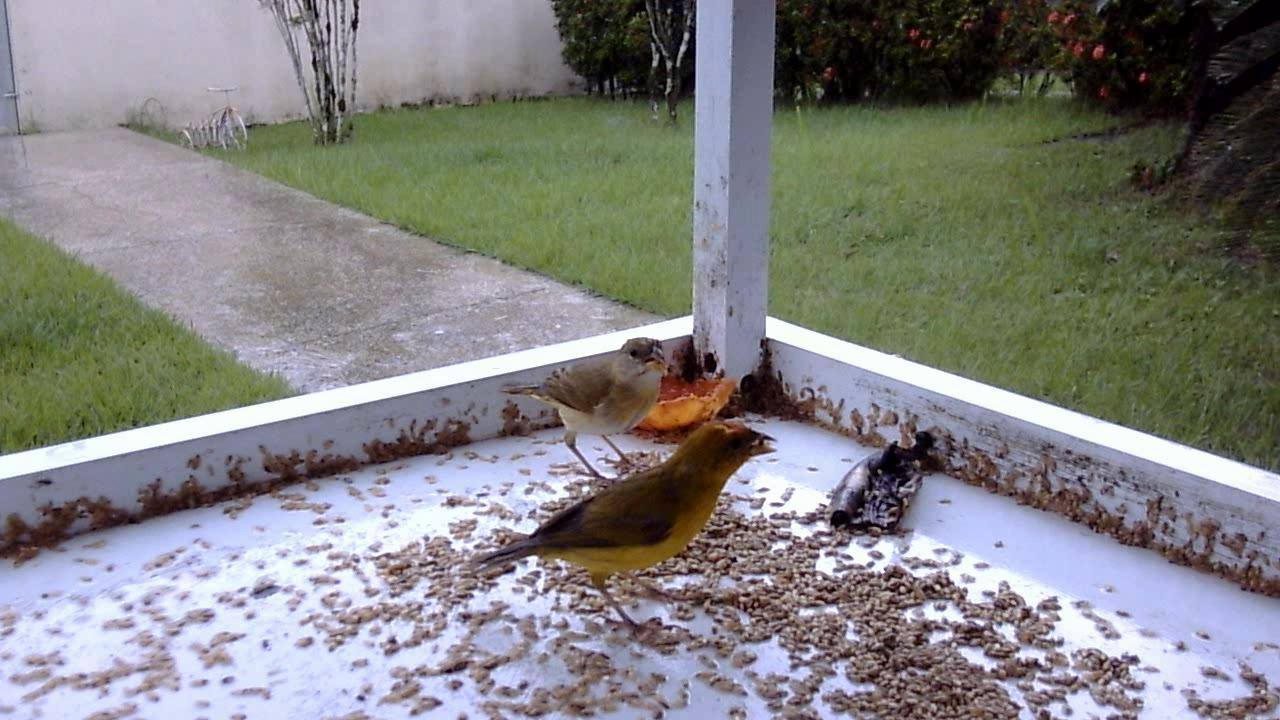canario_do_amazonas: (461, 425, 780, 644), (504, 332, 674, 491)
